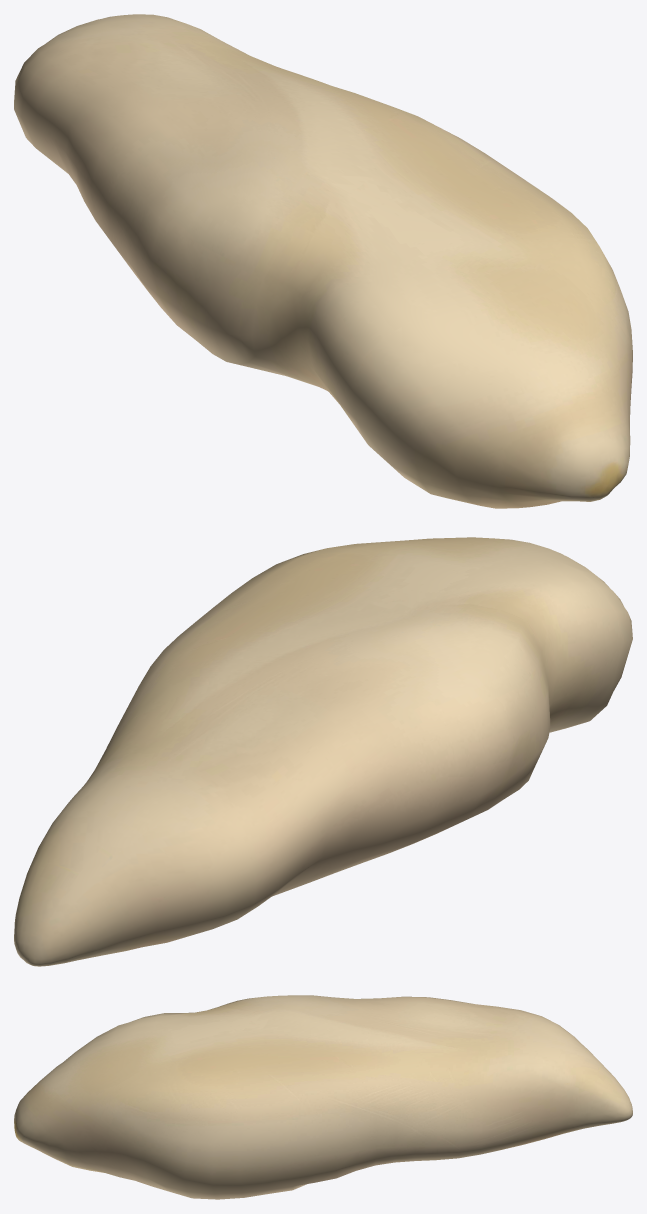
Rendered from ayamfilet.glb.
3 views of the same model, one above another, from view 1: azimuth 30°, elevation 25°; view 2: azimuth 150°, elevation 25°; view 3: azimuth 270°, elevation 25° (orthographic). The views are drawn at different scales.
Visible parts, largest first — view 1: tripo_node_7aaf5eb1; view 2: tripo_node_7aaf5eb1; view 3: tripo_node_7aaf5eb1.
Boxes of the visible parts, x1,y1,x2,y2 form: tripo_node_7aaf5eb1: [14, 14, 632, 508]; tripo_node_7aaf5eb1: [14, 537, 632, 966]; tripo_node_7aaf5eb1: [14, 995, 632, 1199].
Bounding box in the file's own units: 0.4071 × 0.2529 × 0.996.
Materials: 1 (1 with a texture image).
